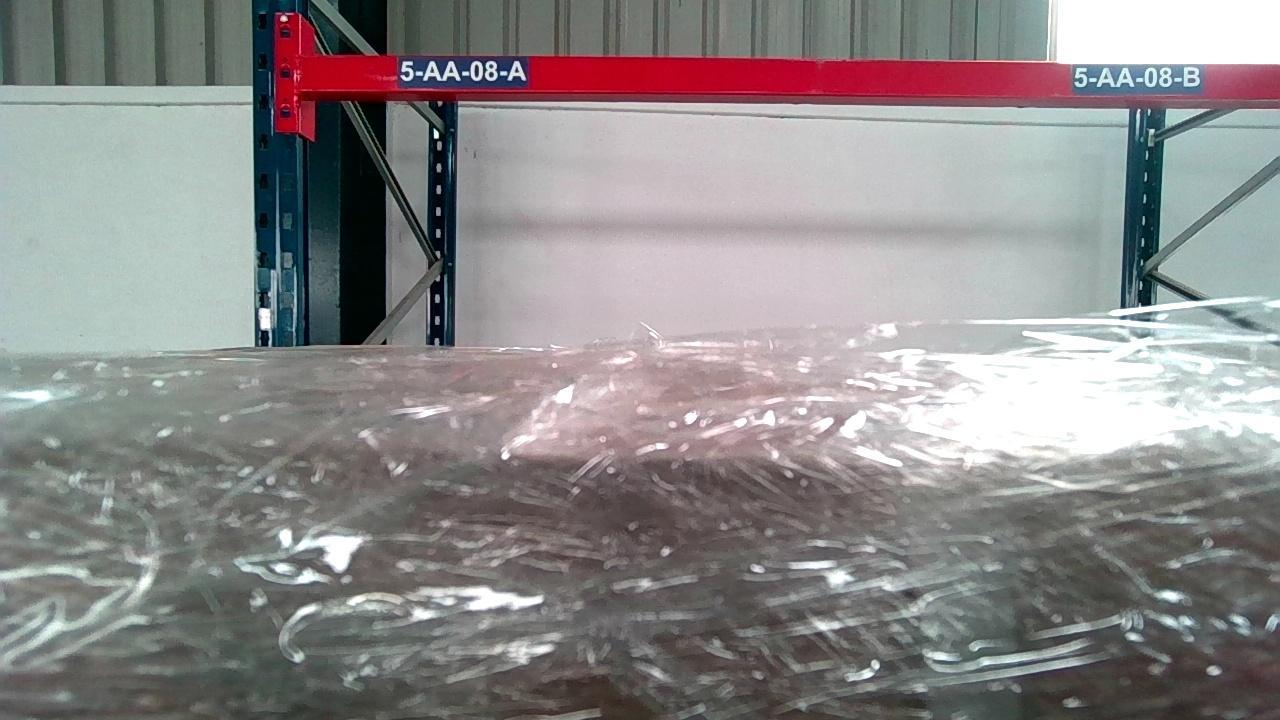h_rack: (305, 54, 1275, 97)
